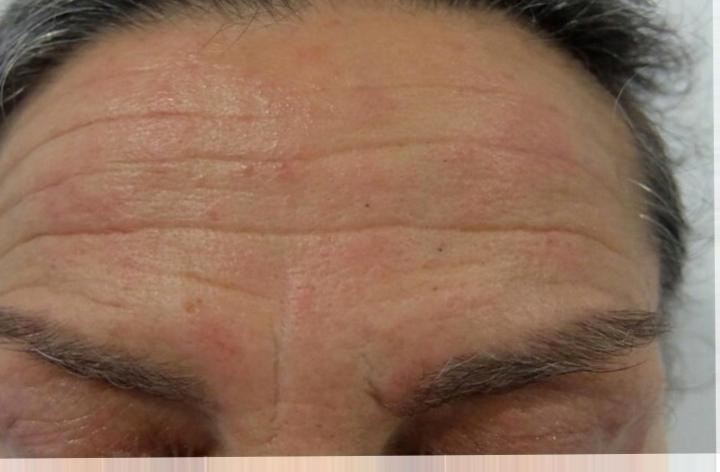Contact Dermatitis: (59, 66, 618, 309)
